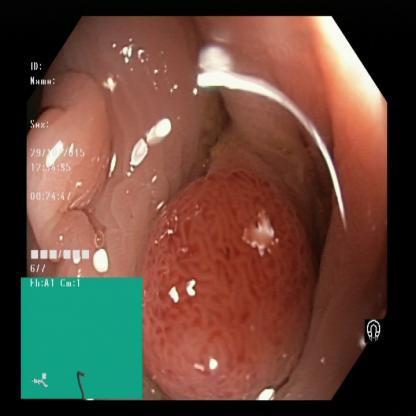Labels: (20, 273, 145, 396), (24, 52, 92, 278), (361, 316, 387, 348)
Polyps: (148, 190, 291, 382), (27, 85, 112, 213)
